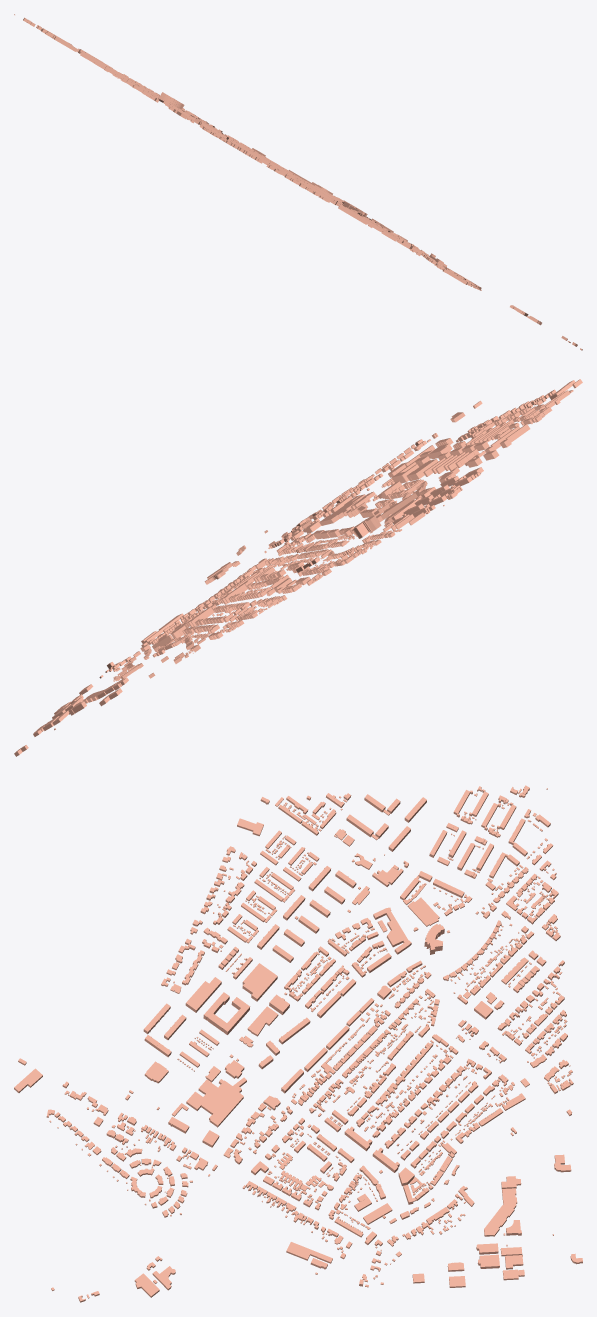
3 renders of one model, top to bottom at view 1: azimuth 30°, elevation 25°; view 2: azimuth 150°, elevation 25°; view 3: azimuth 270°, elevation 25°, orthographic. The views are drawn at different scales.
Bounding box in the file's own units: 1039 × 756 × 1232.
